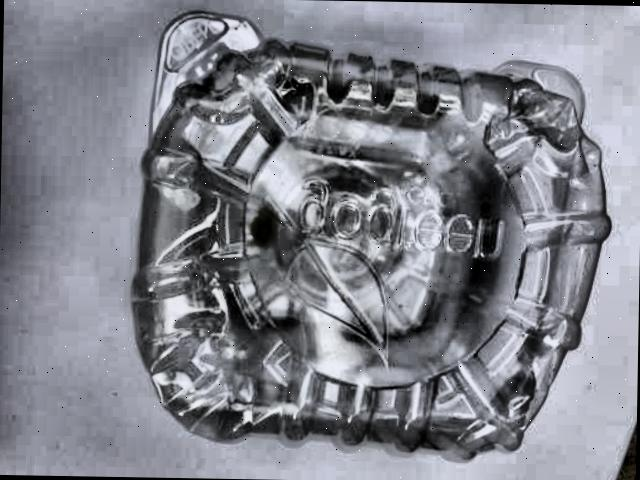Plastic: (108, 8, 620, 460)
